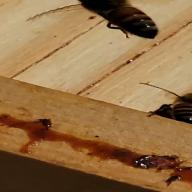Bee: (26, 0, 172, 58), (137, 76, 192, 121)
